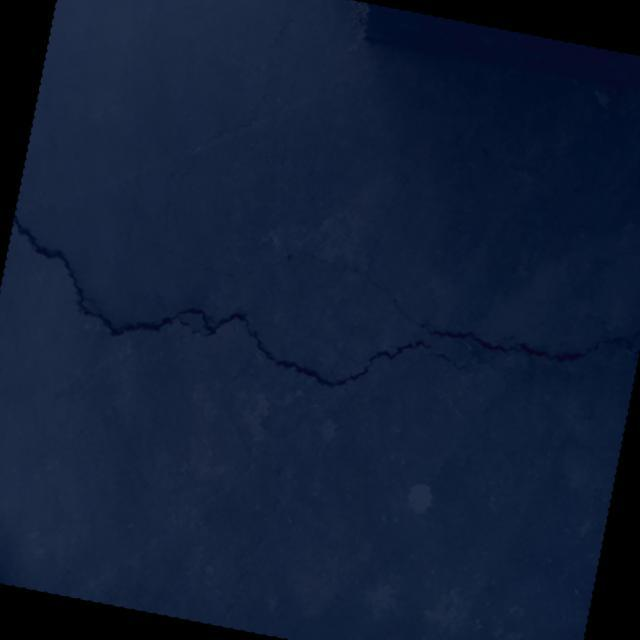crack: (0, 214, 443, 407), (274, 246, 640, 379), (160, 78, 268, 228), (266, 4, 296, 58), (424, 352, 474, 374)
